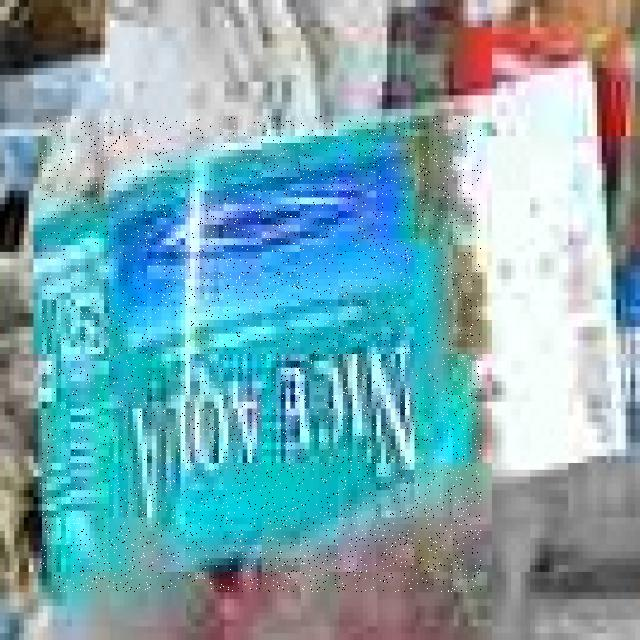wrapper: (41, 116, 481, 592)
